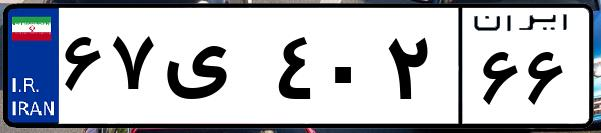0: (330, 28, 385, 110)
2: (385, 28, 445, 110)
4: (270, 28, 330, 110)
6: (57, 26, 110, 100), (475, 38, 525, 113), (525, 38, 570, 115)
7: (110, 28, 158, 98)
ی: (158, 20, 270, 120)
